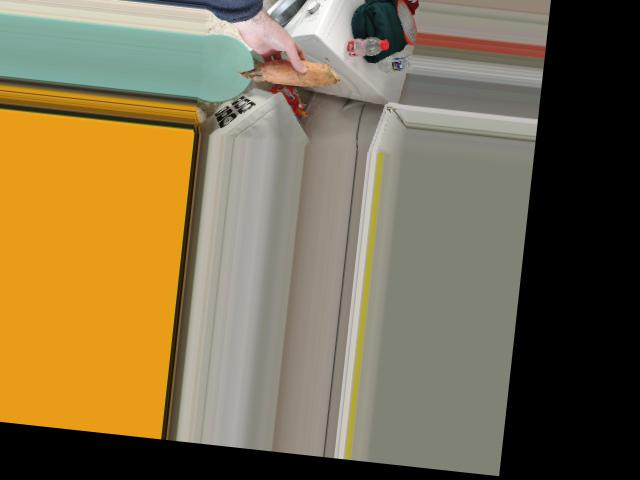sweet_potato: (237, 47, 334, 91)
